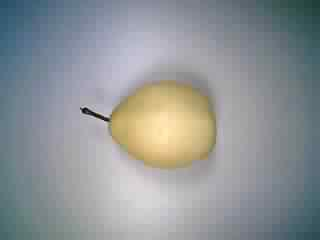pear: (66, 71, 227, 180)
